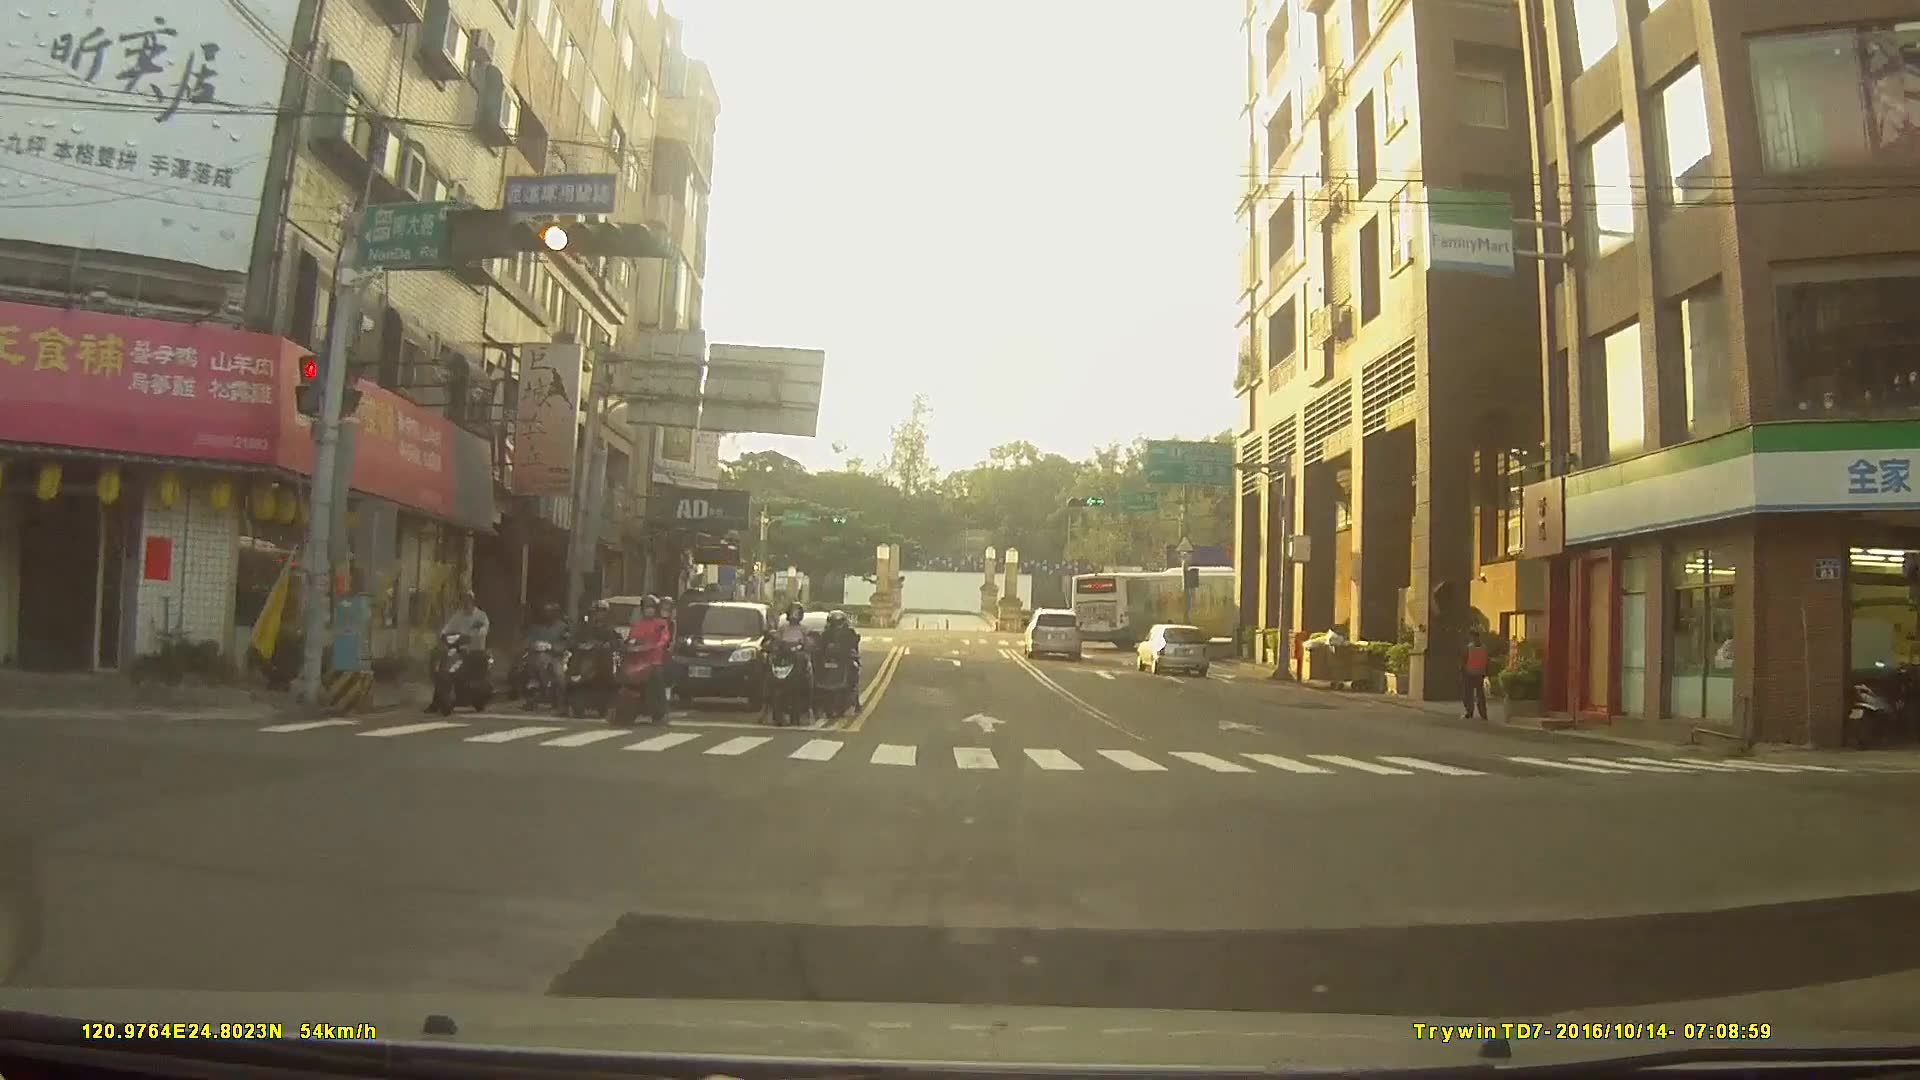pedestrian: (1459, 634, 1496, 728)
rider: (608, 596, 683, 734), (431, 593, 500, 720), (562, 601, 626, 720), (767, 610, 827, 731), (519, 603, 574, 713), (810, 618, 862, 724)
vehicle: (1070, 565, 1264, 647), (649, 600, 776, 713), (1136, 621, 1212, 675), (1023, 608, 1084, 659)
